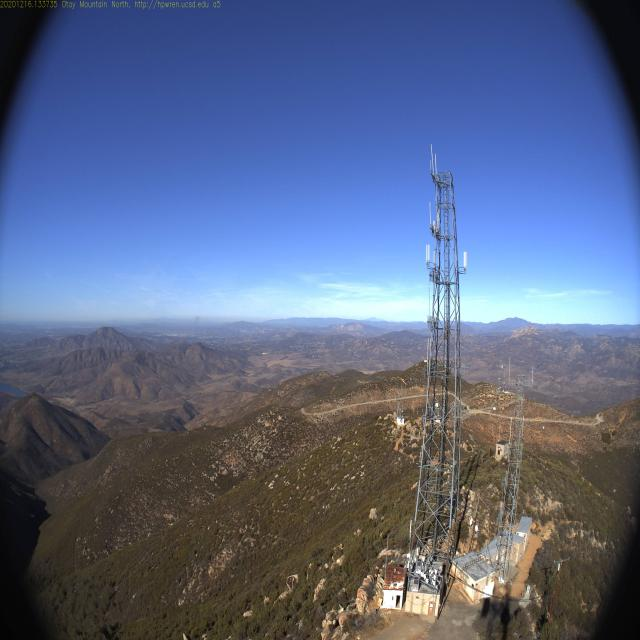smoke: (190, 312, 201, 338)
